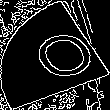O_SE: (14, 22, 96, 88)
